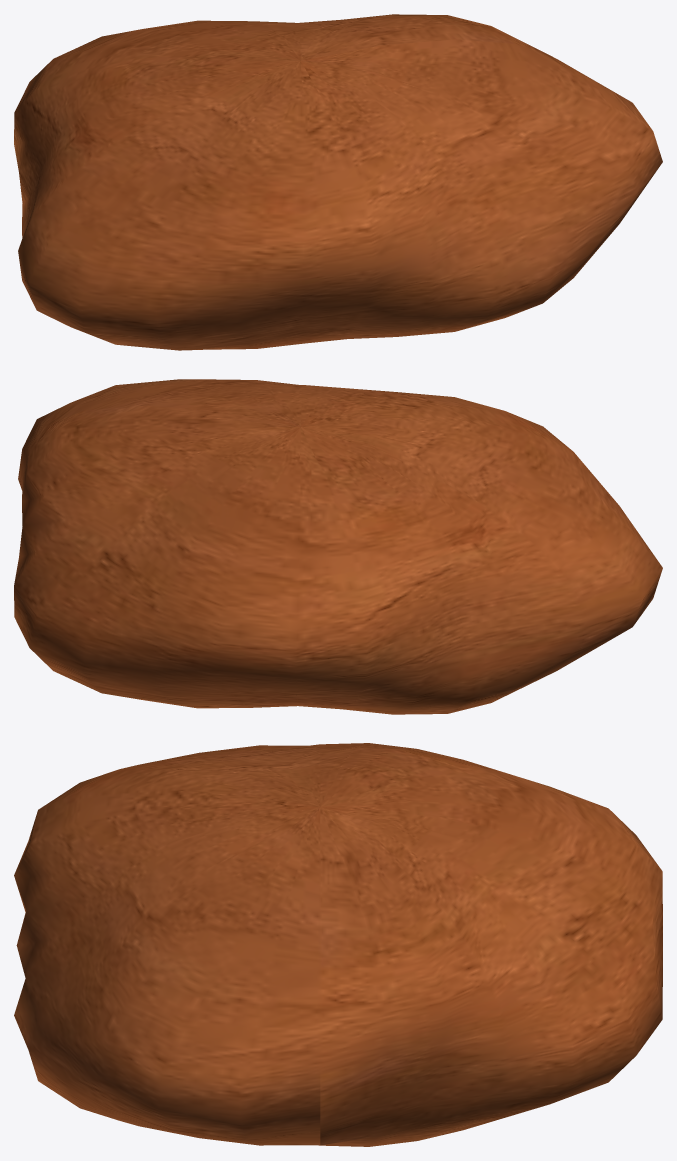
File: guti_clay_shard.glb
3 renders of one model, top to bottom at view 1: azimuth 30°, elevation 25°; view 2: azimuth 150°, elevation 25°; view 3: azimuth 270°, elevation 25°, orthographic. The views are drawn at different scales.
Visible parts, largest first — view 1: guti_clay_shard; view 2: guti_clay_shard; view 3: guti_clay_shard.
Part boxes in pixels (<box>): guti_clay_shard: <box>14,14,662,350</box>; guti_clay_shard: <box>14,379,662,714</box>; guti_clay_shard: <box>14,743,662,1146</box>.
Size of the model in its own units: 0.025 by 0.008 by 0.02.
1 material, 1 textured.
